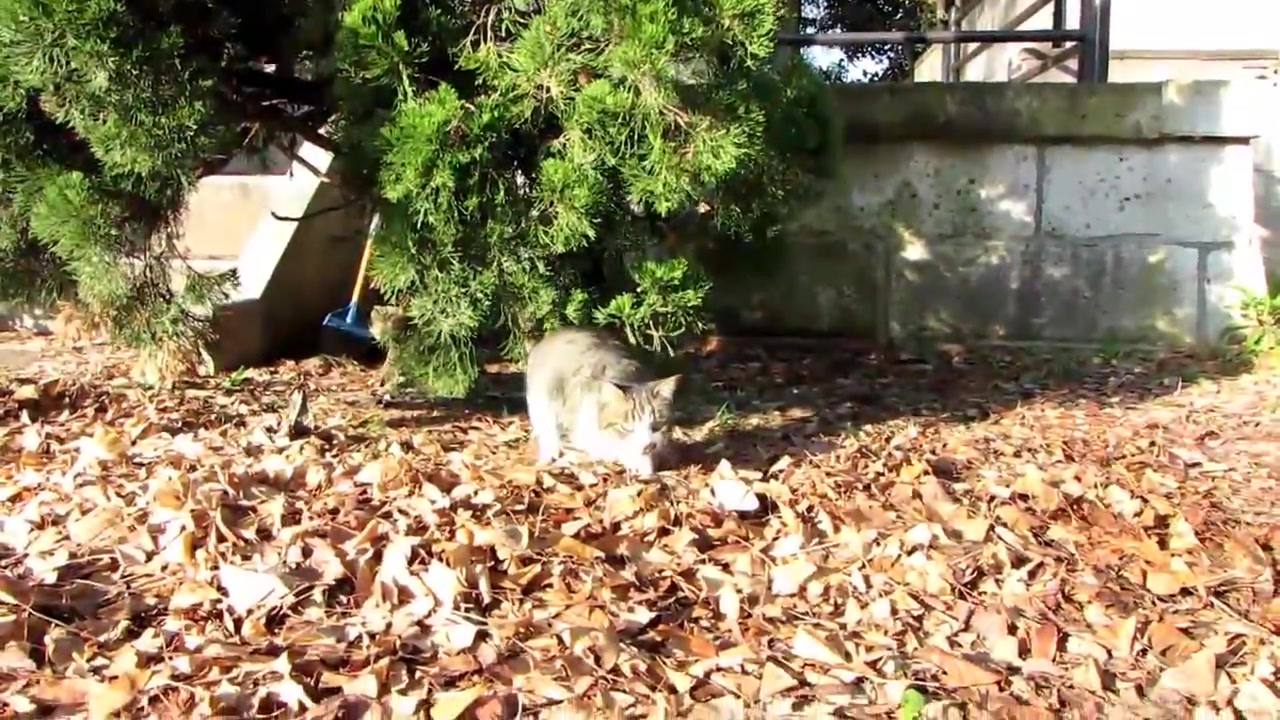cat: (521, 324, 681, 488)
